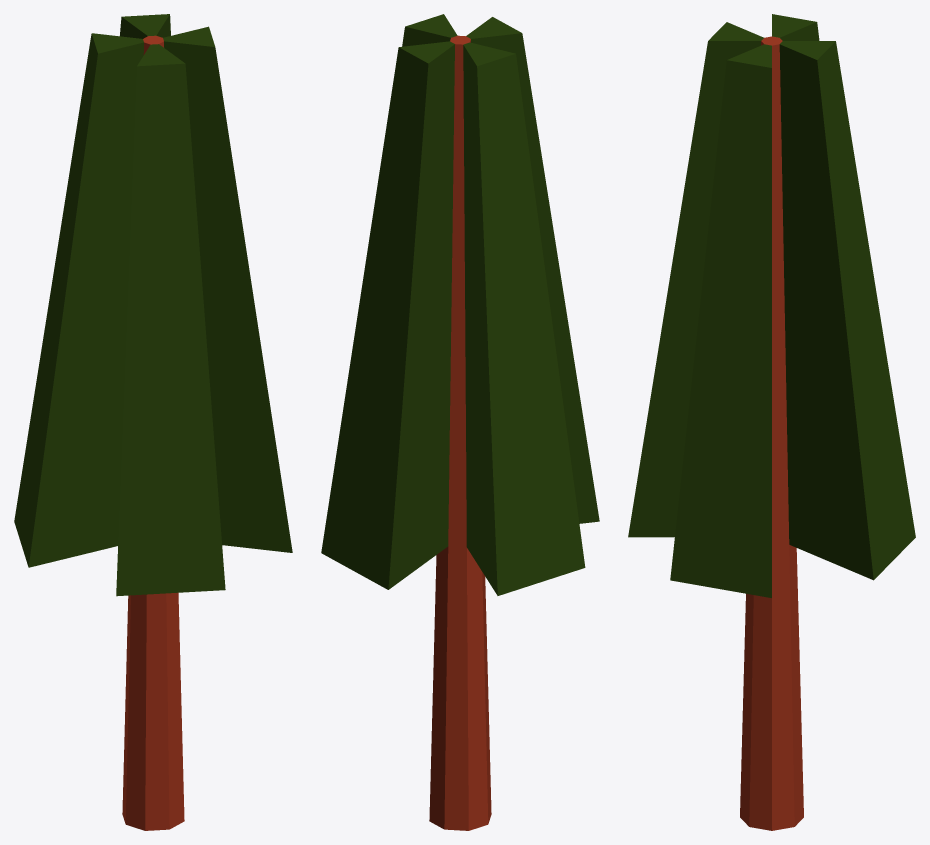
The picture shows the model from 3 angles, left to right: view 1: azimuth 30°, elevation 25°; view 2: azimuth 150°, elevation 25°; view 3: azimuth 270°, elevation 25°; orthographic projection.
Visible parts, largest first — view 1: Tree_28_autumn_mat_Circle.013; view 2: Tree_28_autumn_mat_Circle.013; view 3: Tree_28_autumn_mat_Circle.013.
Part boxes in pixels (x1,y1,x2,y2): Tree_28_autumn_mat_Circle.013: (14,14,292,830); Tree_28_autumn_mat_Circle.013: (321,14,599,830); Tree_28_autumn_mat_Circle.013: (628,14,915,830).
Bounding box in the file's own units: 3.96 × 11.78 × 3.96.
